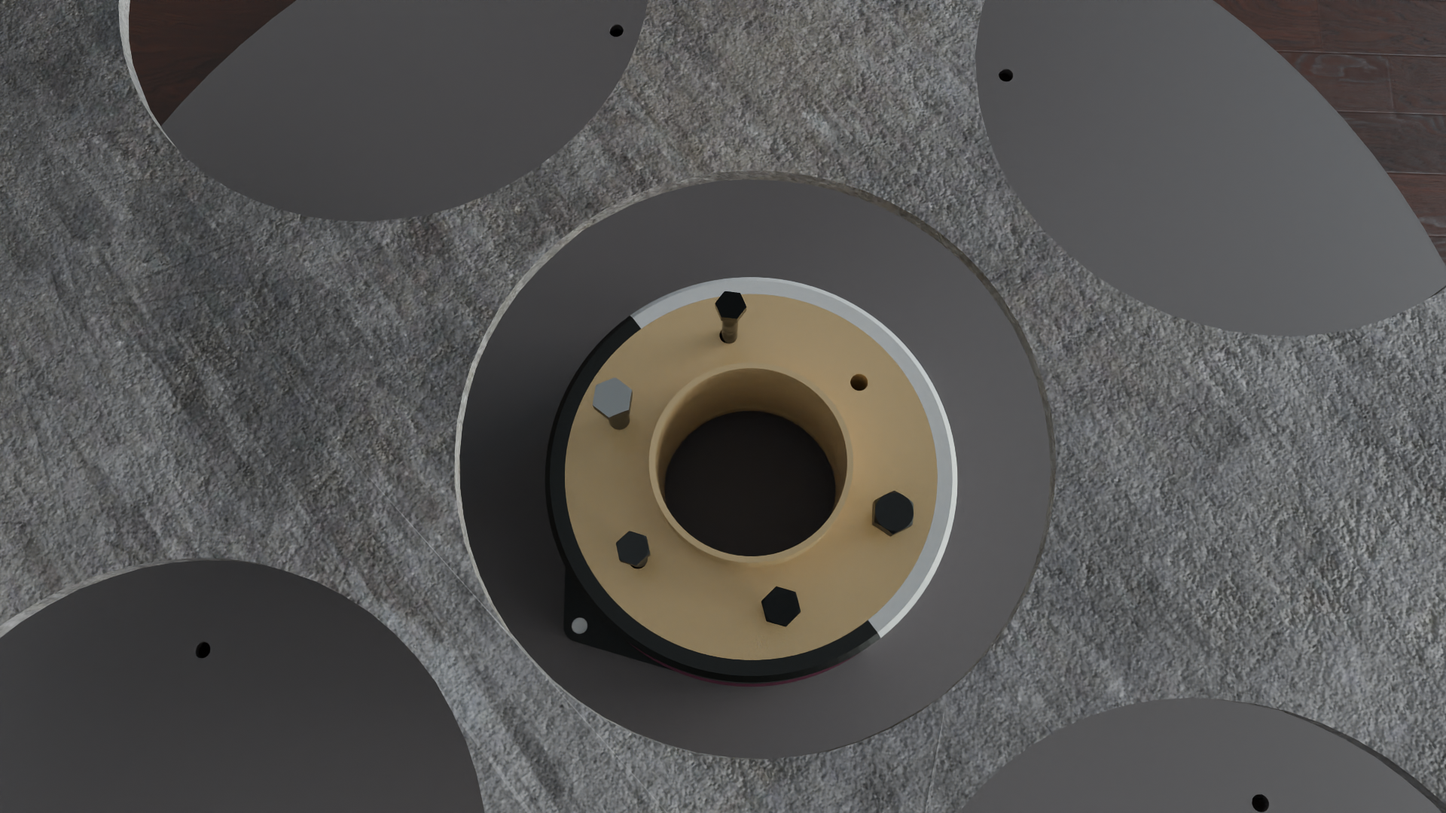bolt: (874, 491, 914, 534), (593, 377, 632, 418), (762, 586, 801, 626), (616, 531, 650, 565), (715, 291, 746, 319)
